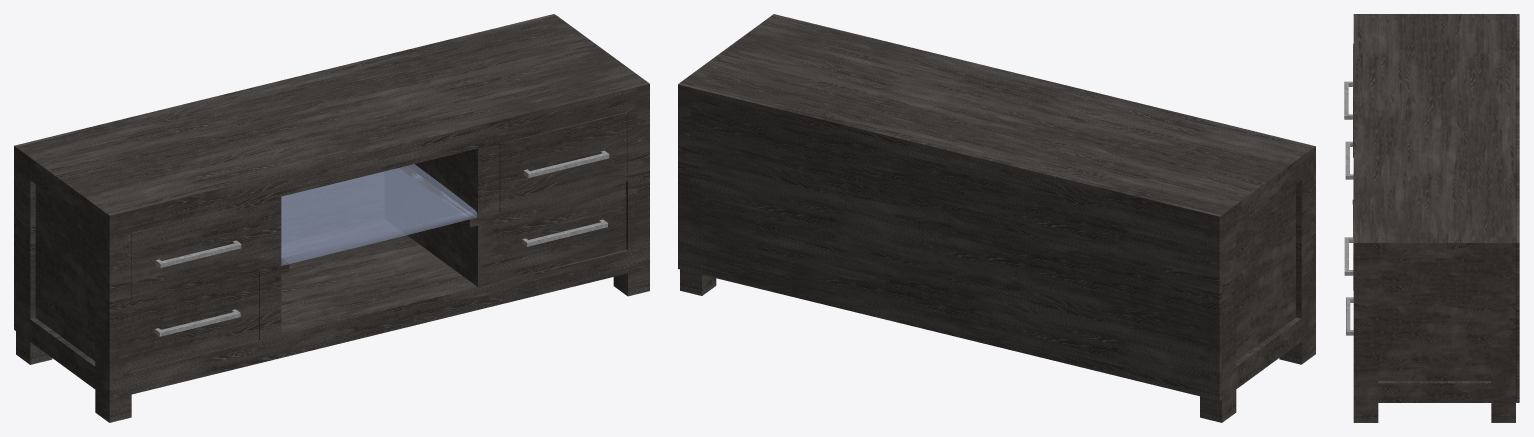
The model's file is Locker tv stand N071020.obj.
3 views of the same model, side by side, from view 1: azimuth 30°, elevation 25°; view 2: azimuth 150°, elevation 25°; view 3: azimuth 270°, elevation 25° (orthographic). The views are drawn at different scales.
Parts seen in each view (by area): view 1: Box001, Box006, Object003, Object001, Object004, Object002, Plane001, Line001, Box002, Box005, Box004, Box003; view 2: Plane001, Box001; view 3: Box001, Plane001, Box002, Box005, Box004, Box003.
Boxes of the visible parts, bbox=[...] form: Box001: bbox=[16, 15, 649, 422]; Box006: bbox=[281, 164, 477, 265]; Object003: bbox=[131, 202, 259, 302]; Object001: bbox=[499, 112, 627, 212]; Object004: bbox=[131, 272, 258, 370]; Object002: bbox=[499, 181, 626, 280]; Plane001: bbox=[14, 14, 555, 330]; Line001: bbox=[281, 166, 477, 273]; Box002: bbox=[523, 150, 609, 177]; Box005: bbox=[155, 240, 241, 267]; Box004: bbox=[154, 309, 240, 336]; Box003: bbox=[522, 219, 607, 246]; Plane001: bbox=[678, 83, 1221, 400]; Box001: bbox=[680, 14, 1315, 422]; Box001: bbox=[1353, 14, 1515, 422]; Plane001: bbox=[1516, 14, 1519, 402]; Box002: bbox=[1344, 237, 1353, 275]; Box005: bbox=[1344, 81, 1352, 119]; Box004: bbox=[1345, 141, 1353, 179]; Box003: bbox=[1346, 297, 1353, 335].
Size of the model in its own units: 15000 by 5500 by 4856.
